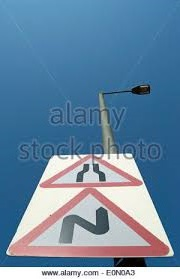Double_bend_right: (10, 188, 172, 258)
